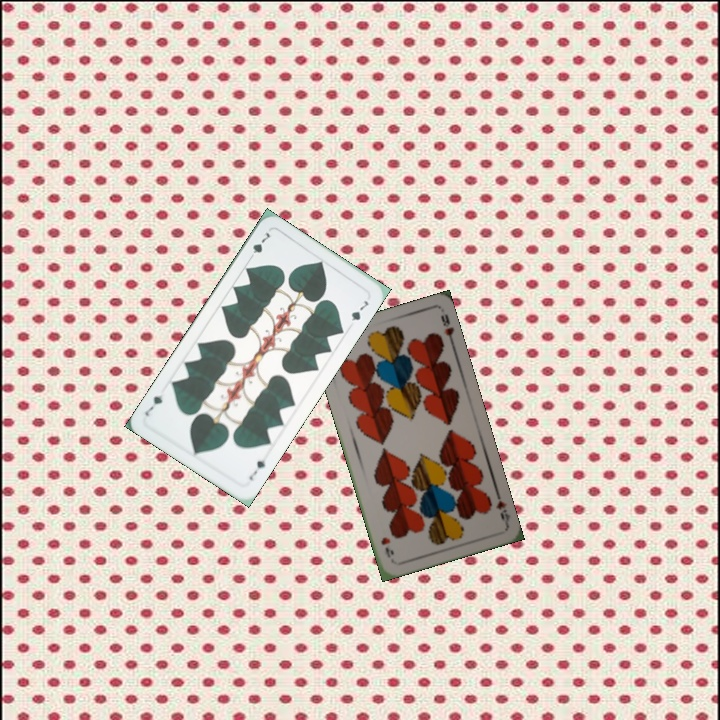G7: (245, 228, 273, 263), (244, 456, 268, 483)
H9: (492, 487, 513, 527)
